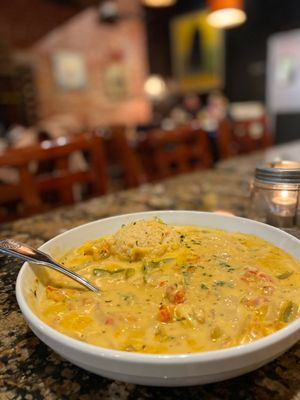pizza: (250, 160, 300, 229)
salad: (0, 239, 102, 292)
sushi: (15, 212, 300, 388)
